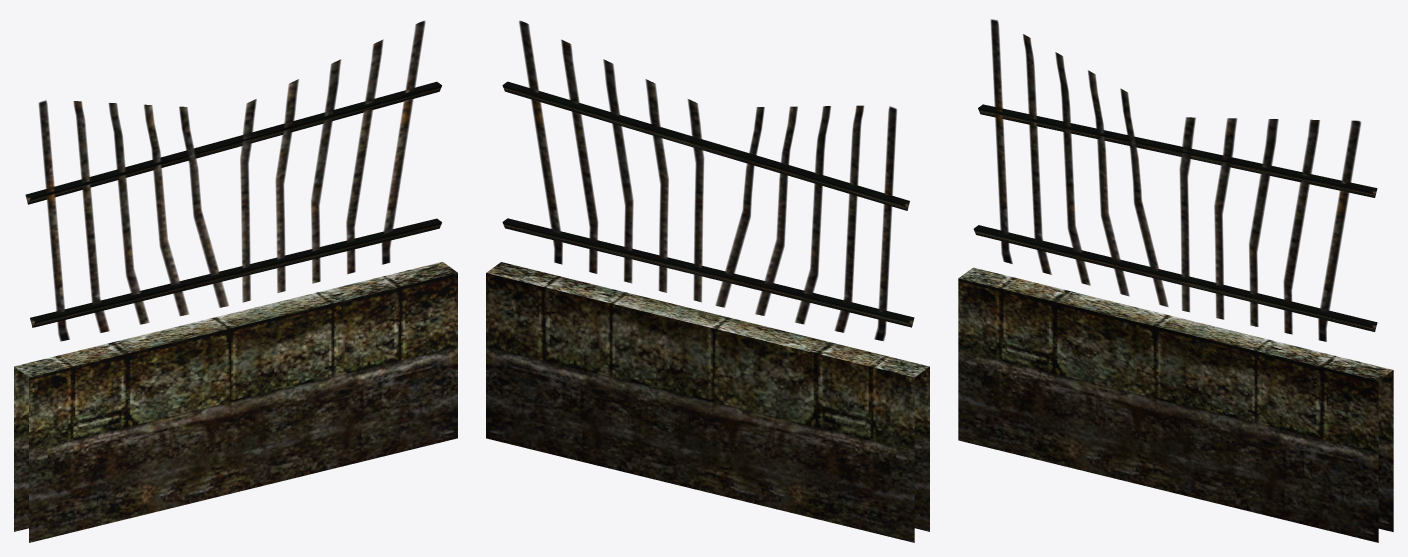
The model's file is cem_fence3.glb.
3 renders of one model, left to right at view 1: azimuth 30°, elevation 25°; view 2: azimuth 150°, elevation 25°; view 3: azimuth 330°, elevation 25°, orthographic. The views are drawn at different scales.
Parts seen in each view (by area): view 1: cem_fence3; view 2: cem_fence3; view 3: cem_fence3.
Part boxes in pixels (x1,y1,x2,y2): cem_fence3: (14,20,457,542); cem_fence3: (486,20,929,542); cem_fence3: (958,19,1393,542).
Bounding box in the file's own units: 3.84 × 3.68 × 0.234.
Materials: 3 (3 with a texture image).
